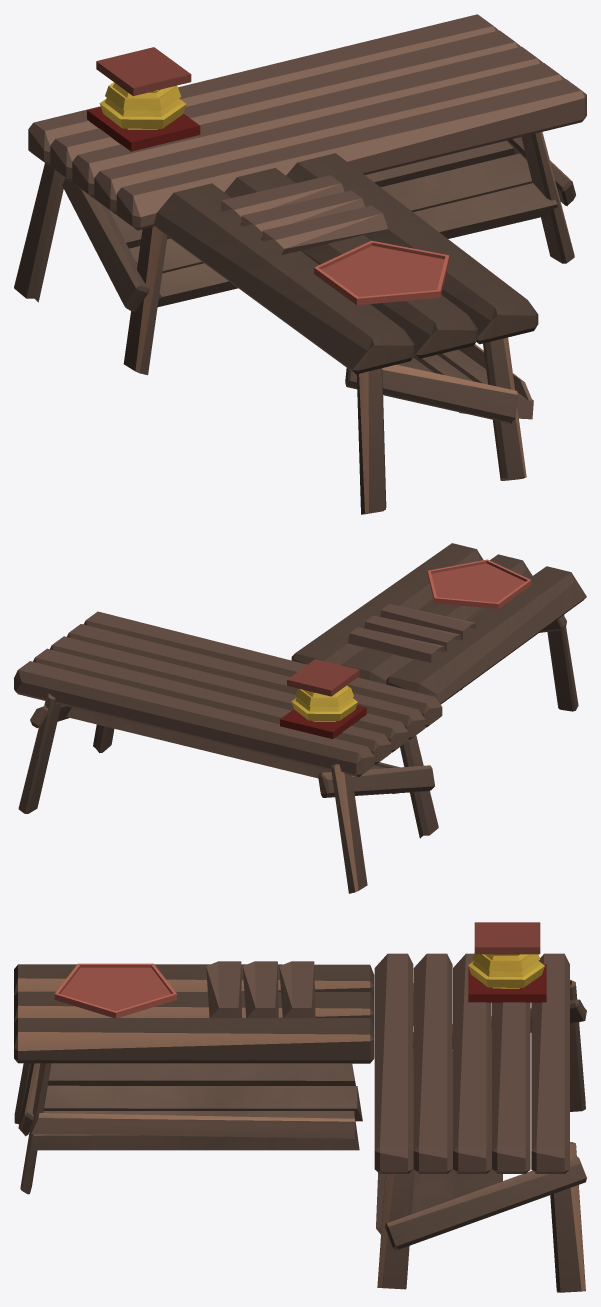
File: shop_0lvl.fbx
3 views of the same model, one above another, from view 1: azimuth 30°, elevation 25°; view 2: azimuth 150°, elevation 25°; view 3: azimuth 270°, elevation 25° (orthographic). The views are drawn at different scales.
Parts seen in each view (by area): view 1: shop_0lvl; view 2: shop_0lvl; view 3: shop_0lvl.
Boxes of the visible parts, bbox=[...] form: shop_0lvl: bbox=[14, 14, 586, 514]; shop_0lvl: bbox=[14, 543, 586, 893]; shop_0lvl: bbox=[14, 922, 586, 1292].
Bounding box in the file's own units: 3 × 1.5 × 3.65.
Materials: 1 (1 with a texture image).
